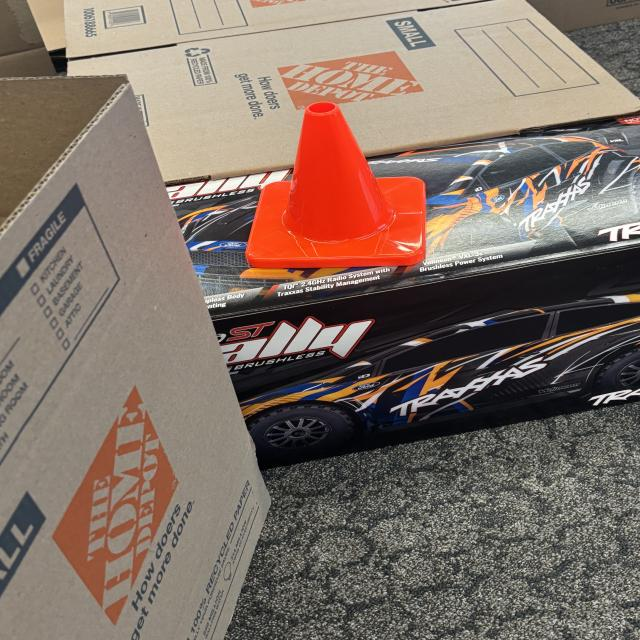Traffic Cone: (220, 86, 445, 282)
